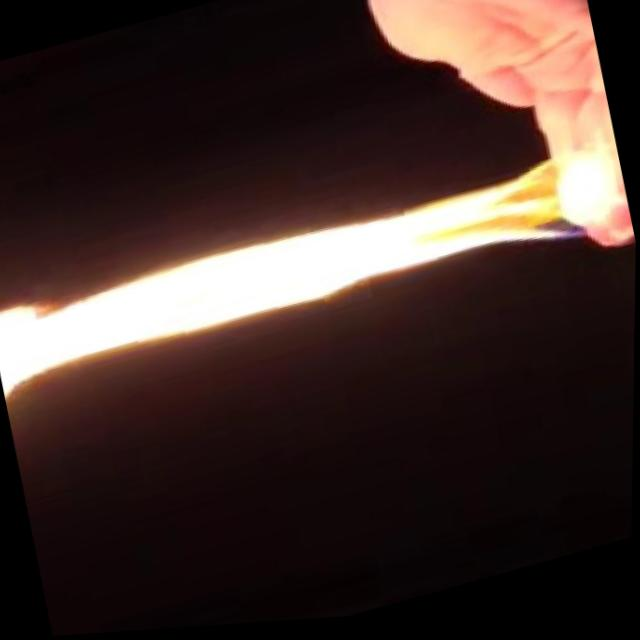Fire: (0, 119, 638, 421)
